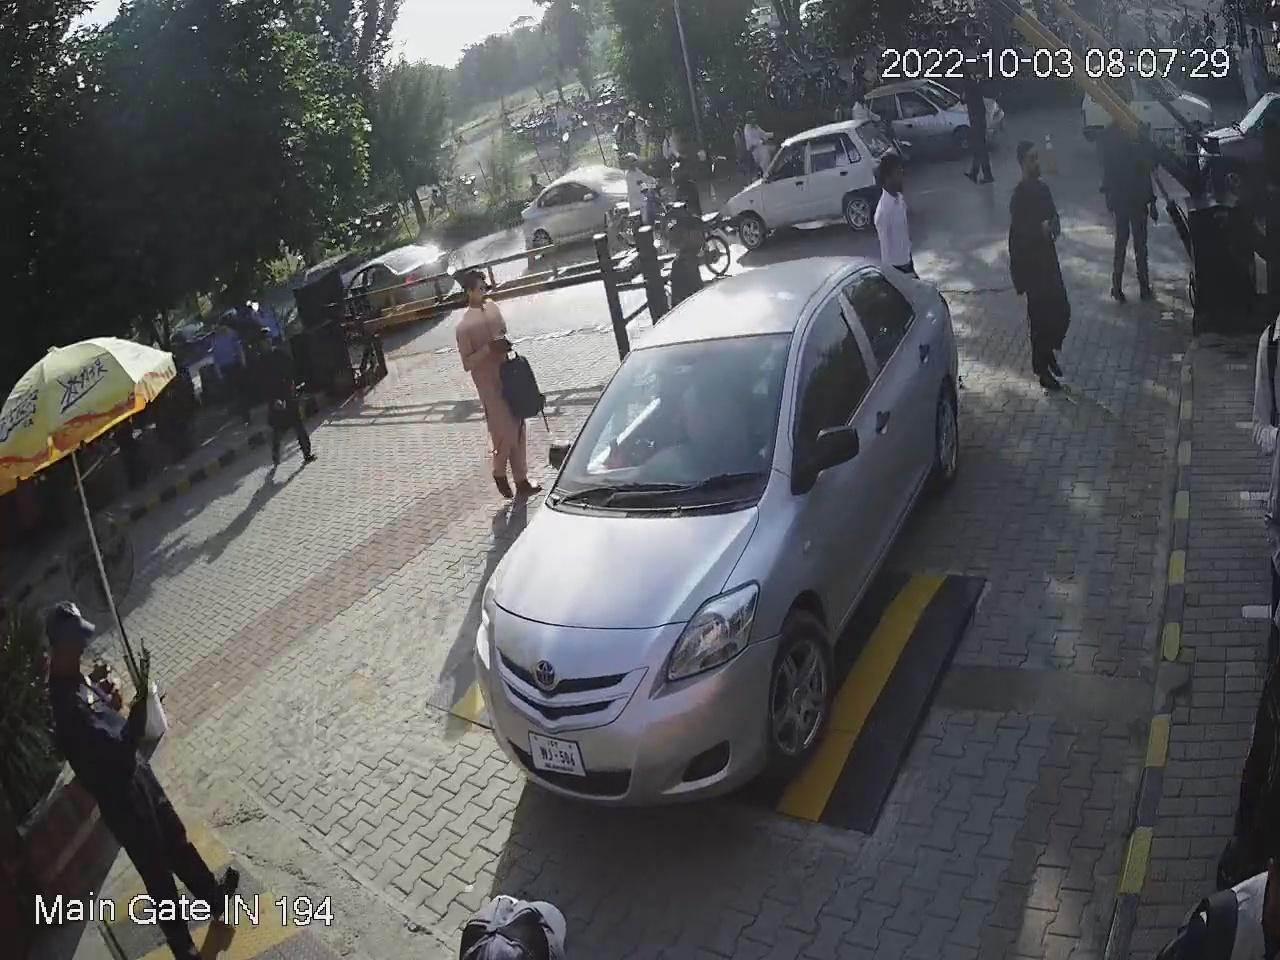windshield: (545, 328, 800, 520)
